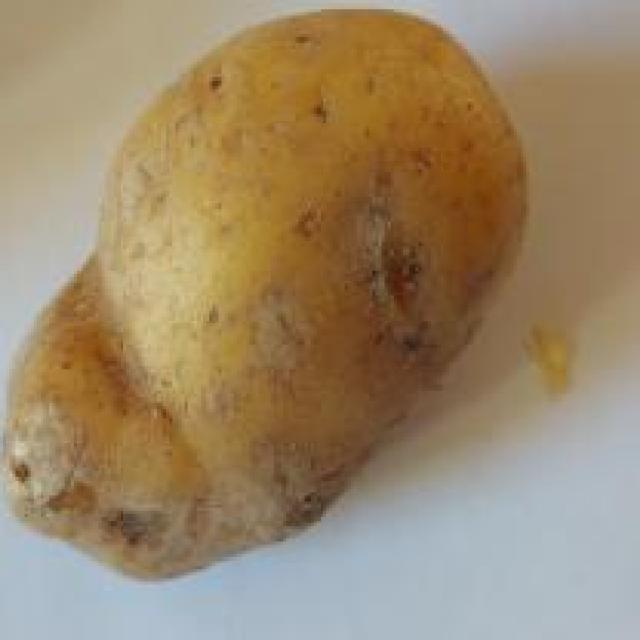potato: (0, 9, 529, 585)
